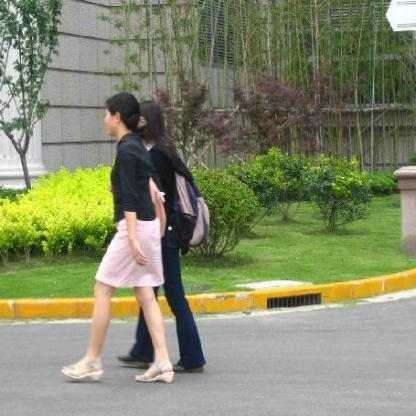person: (61, 91, 176, 383)
